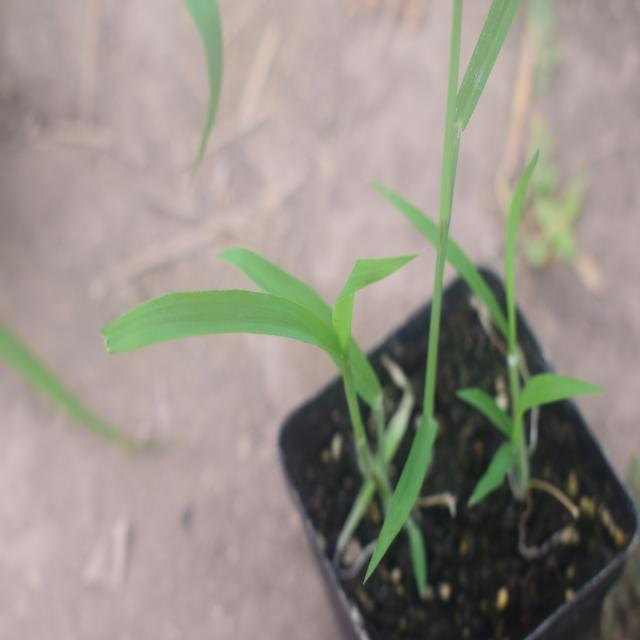crabgrass: (96, 221, 461, 512)
